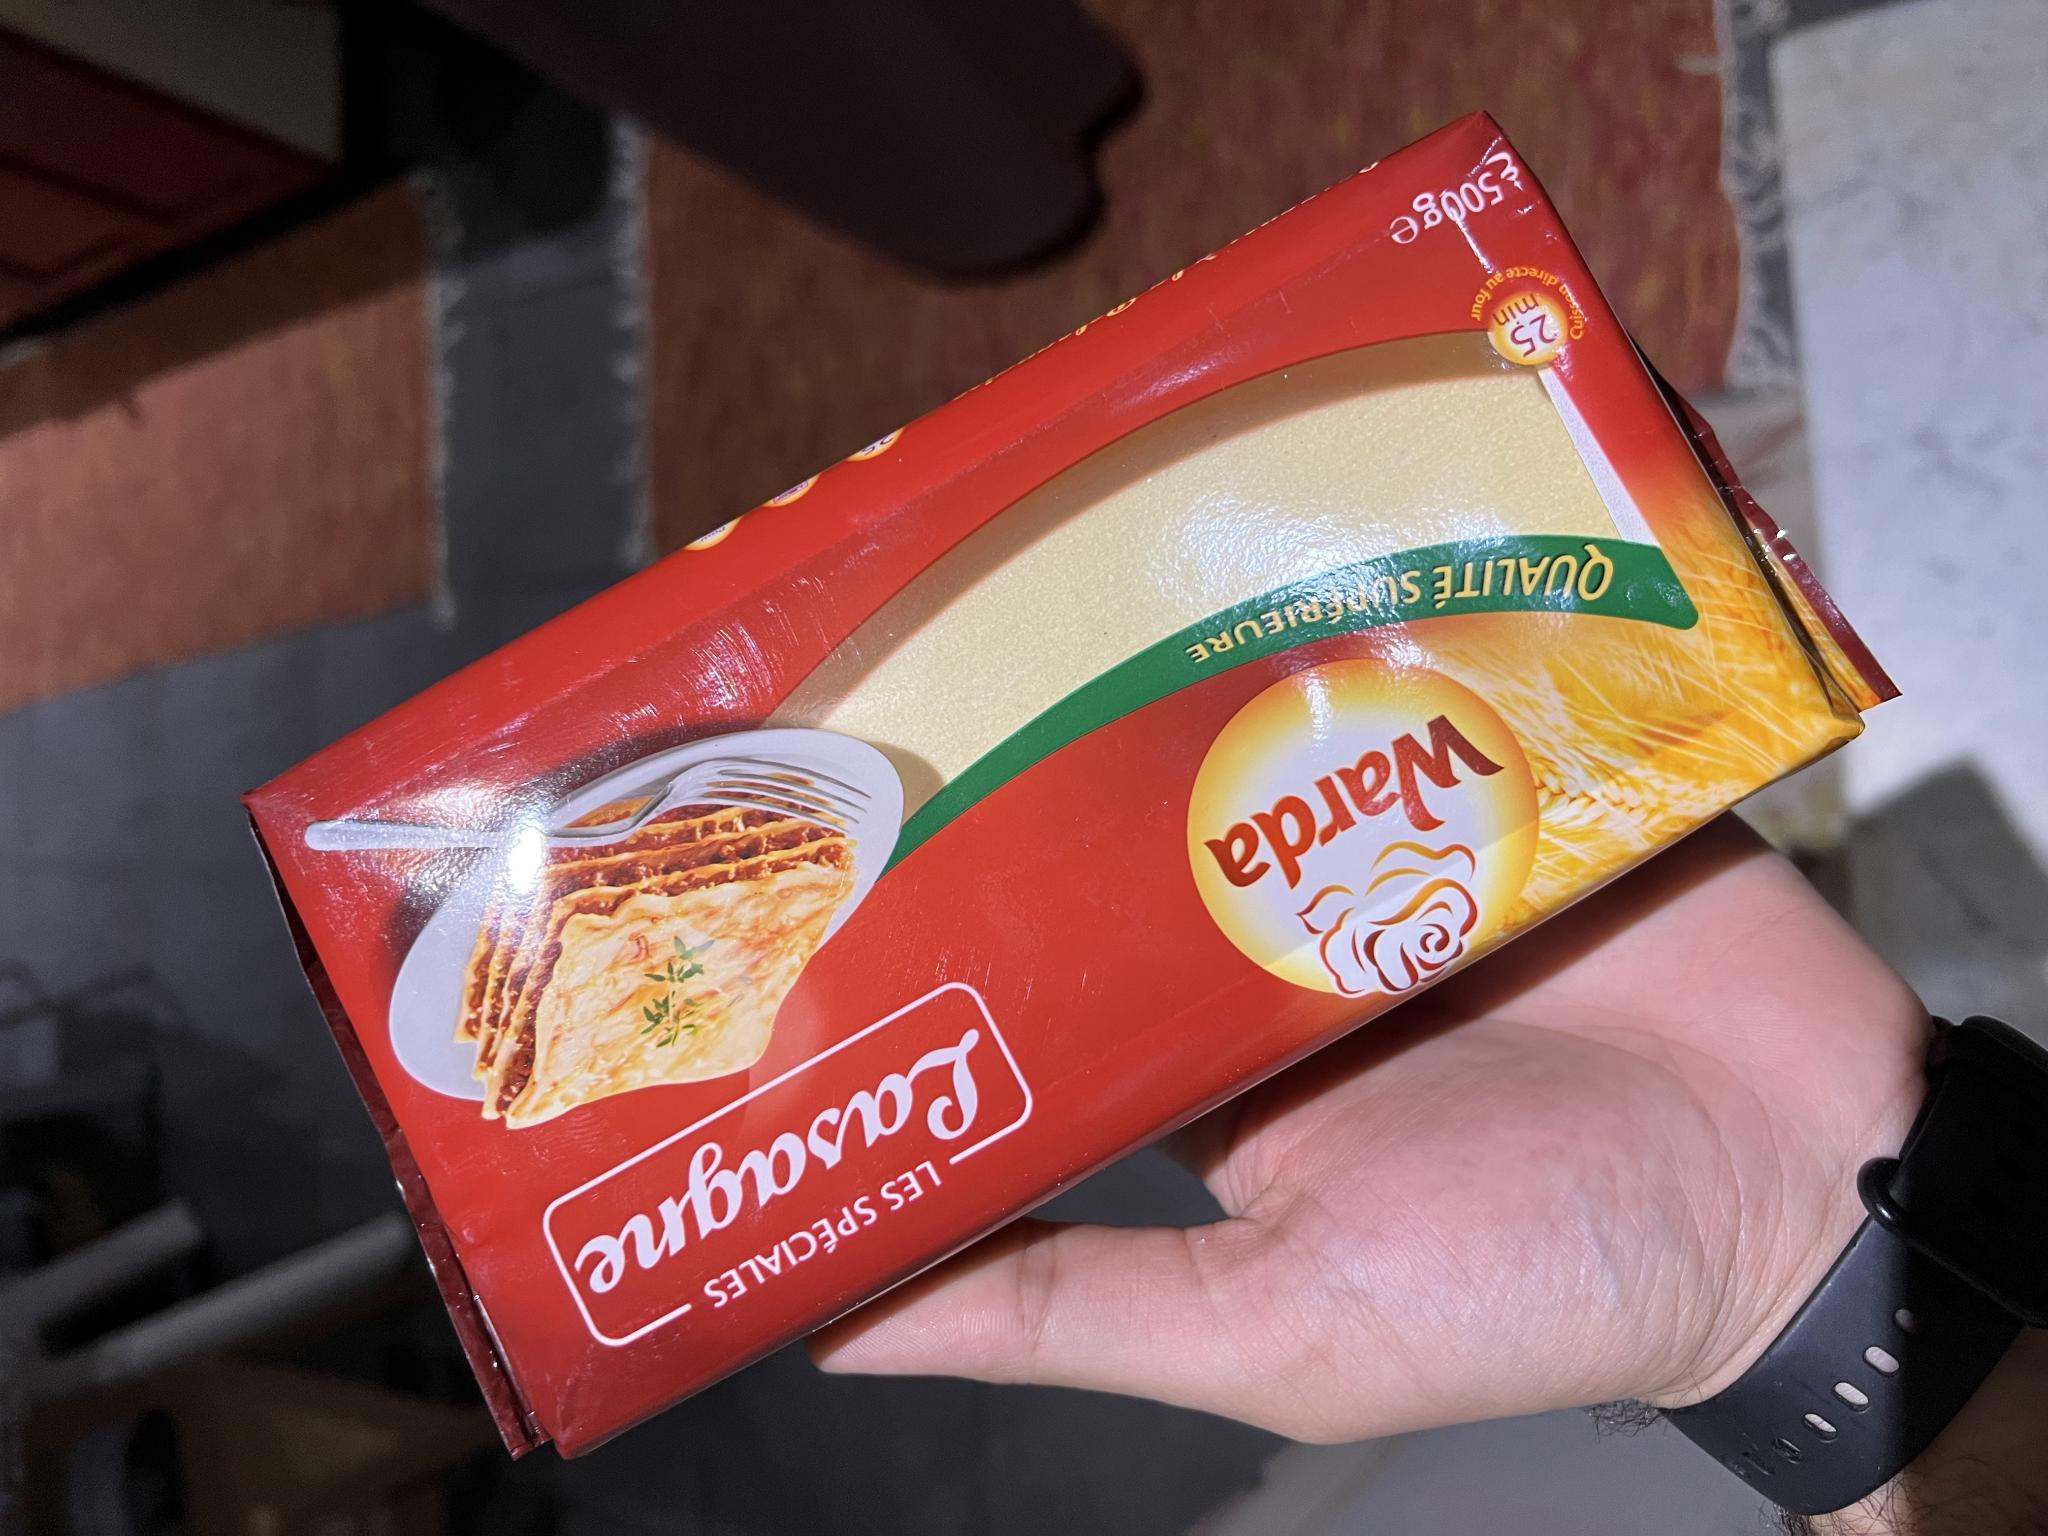lasagne: (273, 139, 1838, 1418)
